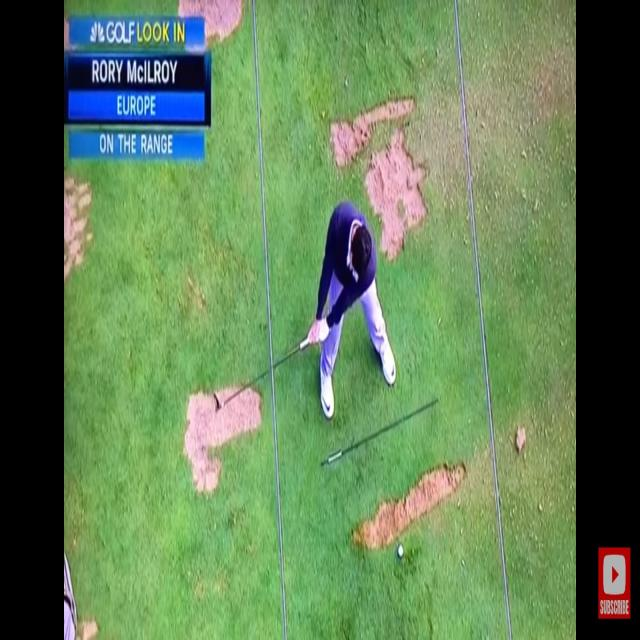humans: (306, 198, 398, 418)
